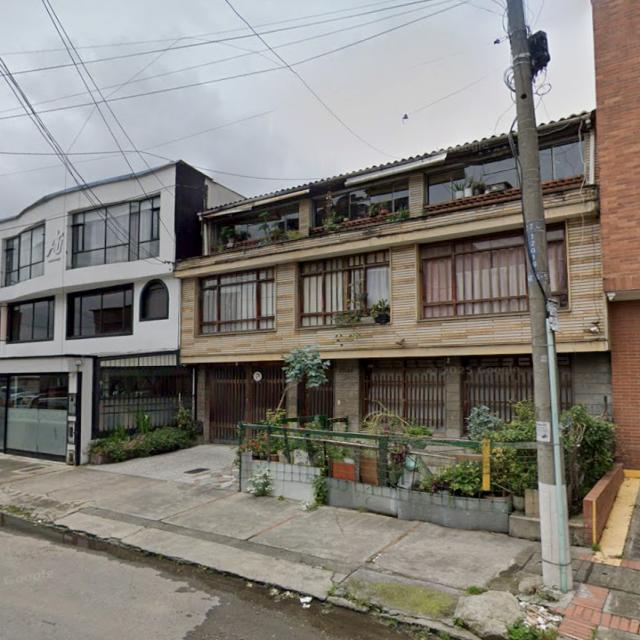fachada: (176, 136, 533, 440), (0, 161, 237, 464), (592, 0, 639, 468)
poste: (508, 0, 572, 590)
